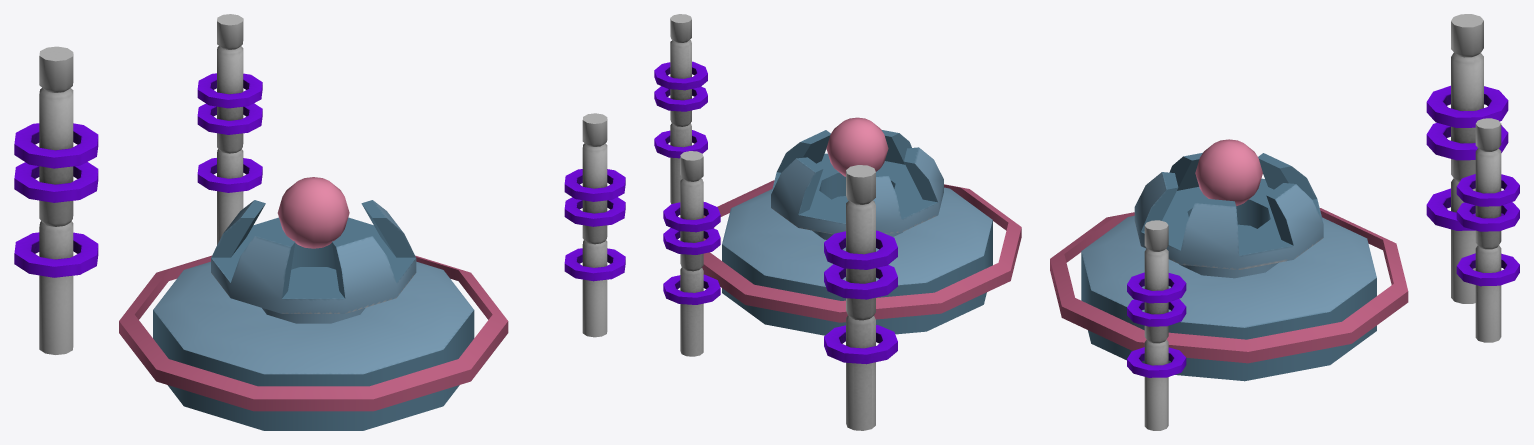
Rendered from Tech_03.fbx.
The picture shows the model from 3 angles, left to right: view 1: azimuth 30°, elevation 25°; view 2: azimuth 150°, elevation 25°; view 3: azimuth 270°, elevation 25°; orthographic projection. The views are drawn at different scales.
Parts seen in each view (by area): view 1: Tech_021; view 2: Tech_021; view 3: Tech_021.
Part boxes in pixels (x1=…): Tech_021: x1=14, y1=14, x2=625, y2=430; Tech_021: x1=654, y1=14, x2=1021, y2=430; Tech_021: x1=1050, y1=14, x2=1519, y2=430.
Size of the model in its own units: 50.48 by 32.45 by 49.97.
